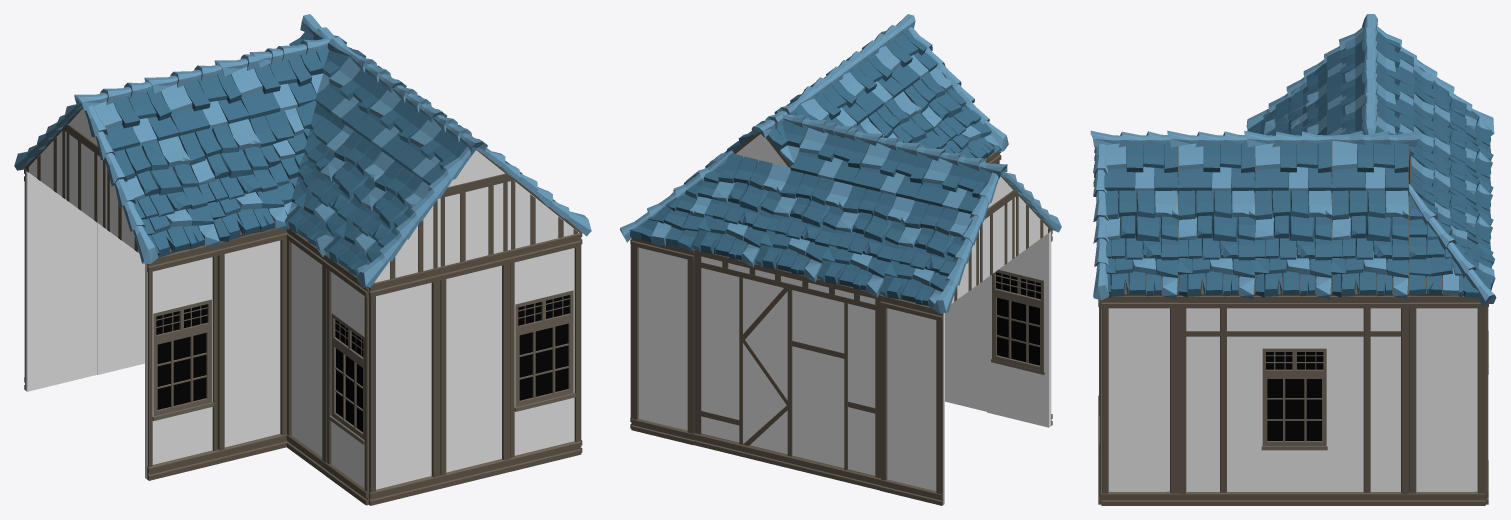
File: House_11_parts.fbx
3 views of the same model, side by side, from view 1: azimuth 30°, elevation 25°; view 2: azimuth 150°, elevation 25°; view 3: azimuth 270°, elevation 25° (orthographic). The views are drawn at different scales.
Visible parts, largest first — view 1: WINDOW_04_5, WALL_03_8, WALL_03_7, WINDOW_04_3, WALL_03_10, WALL_03_3, WINDOW_04_4, WALL_03_9, ROOF_base_4, ROOF_base_3, WALL_05_2, ROOF_inner_corner_3 (+30 smaller); view 2: WALL_05_2, WALL_03_3, WALL_03_4, WINDOW_04_5, ROOF_base_14, ROOF_base_13, ROOF_base_12, ROOF_base_11, WALL_03_10, ROOF_corner_out_2, ROOF_base_6, ROOF_base_small_15 (+24 smaller); view 3: WINDOW_03_2, WALL_03_6, WALL_03_5, ROOF_base_8, ROOF_base_9, ROOF_base_10, ROOF_base_7, ROOF_corner_out_2, ROOF_base_small_13, ROOF_base_small_12, ROOF_base_small_11, ROOF_base_small_10 (+24 smaller).
Boxes of the visible parts, x1,y1,x2,y2 form: WINDOW_04_5: (145, 245, 219, 480); WALL_03_8: (369, 267, 440, 505); WALL_03_7: (439, 250, 510, 488); WINDOW_04_3: (509, 233, 581, 471); WALL_03_10: (217, 228, 287, 463); WALL_03_3: (24, 169, 97, 391); WINDOW_04_4: (325, 255, 368, 505); WALL_03_9: (286, 228, 326, 475); ROOF_base_4: (179, 119, 287, 241); ROOF_base_3: (114, 136, 219, 258); WALL_05_2: (97, 223, 144, 374); ROOF_inner_corner_3: (250, 100, 353, 215); WALL_05_2: (693, 249, 880, 490); WALL_03_3: (880, 294, 944, 505); WALL_03_4: (631, 237, 694, 445); WINDOW_04_5: (987, 230, 1052, 427); ROOF_base_14: (692, 153, 790, 267); ROOF_base_13: (754, 170, 852, 282); ROOF_base_12: (817, 185, 914, 297); ROOF_base_11: (879, 201, 973, 311); WALL_03_10: (945, 278, 986, 411); ROOF_corner_out_2: (620, 150, 734, 251); ROOF_base_6: (904, 67, 999, 158); ROOF_base_small_15: (852, 143, 931, 200); WINDOW_03_2: (1178, 295, 1408, 505); WALL_03_6: (1101, 295, 1178, 505); WALL_03_5: (1409, 295, 1485, 505); ROOF_base_8: (1177, 190, 1255, 299); ROOF_base_9: (1254, 188, 1332, 299); ROOF_base_10: (1331, 190, 1409, 299); ROOF_base_7: (1101, 190, 1178, 299); ROOF_corner_out_2: (1408, 184, 1496, 307); ROOF_base_small_13: (1332, 140, 1408, 193); ROOF_base_small_12: (1255, 140, 1332, 193); ROOF_base_small_11: (1178, 142, 1255, 193); ROOF_base_small_10: (1104, 142, 1178, 193).
Bounding box in the file's own units: 535 × 465 × 528.
